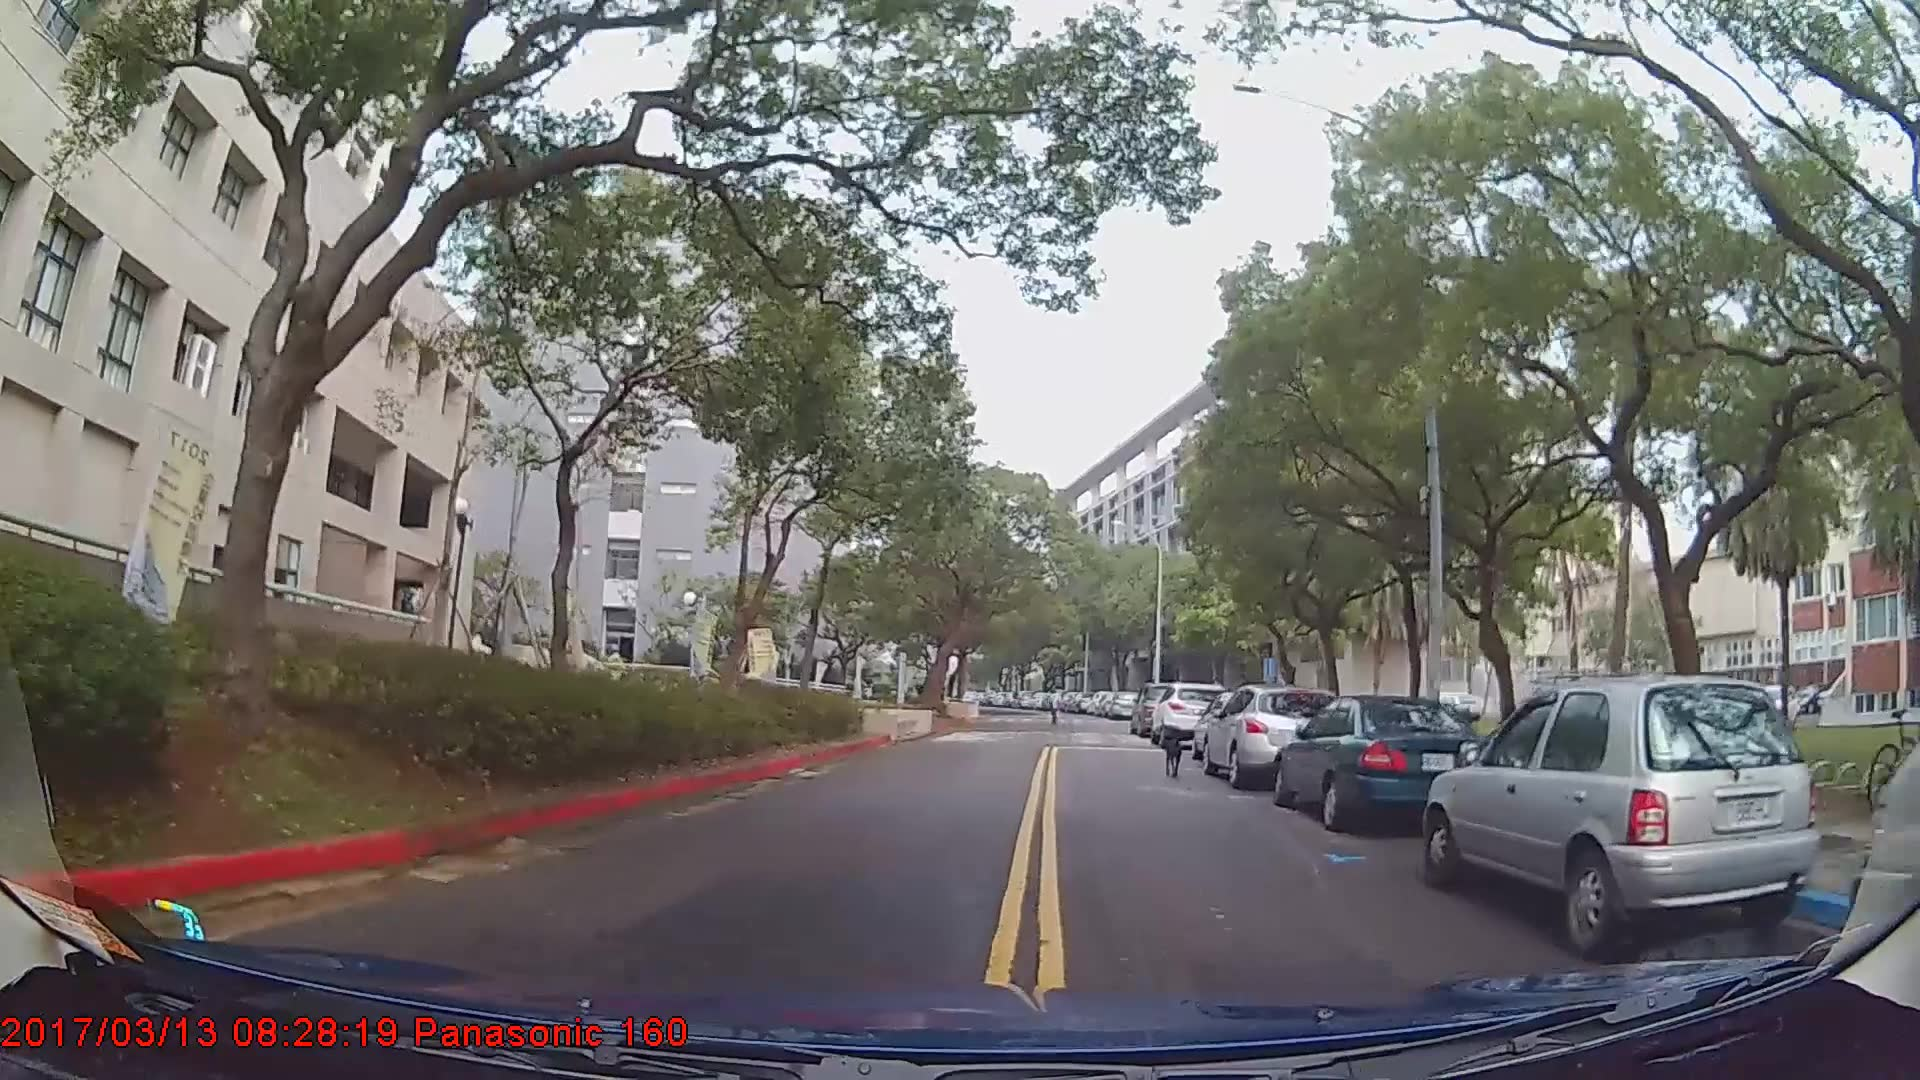pedestrian: (1047, 689, 1067, 727)
vehicle: (1424, 672, 1821, 949), (1273, 693, 1506, 837), (1199, 683, 1341, 788), (1151, 681, 1231, 748), (1106, 689, 1140, 721)
